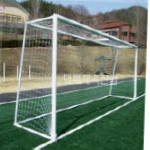goals: (14, 12, 140, 141)
